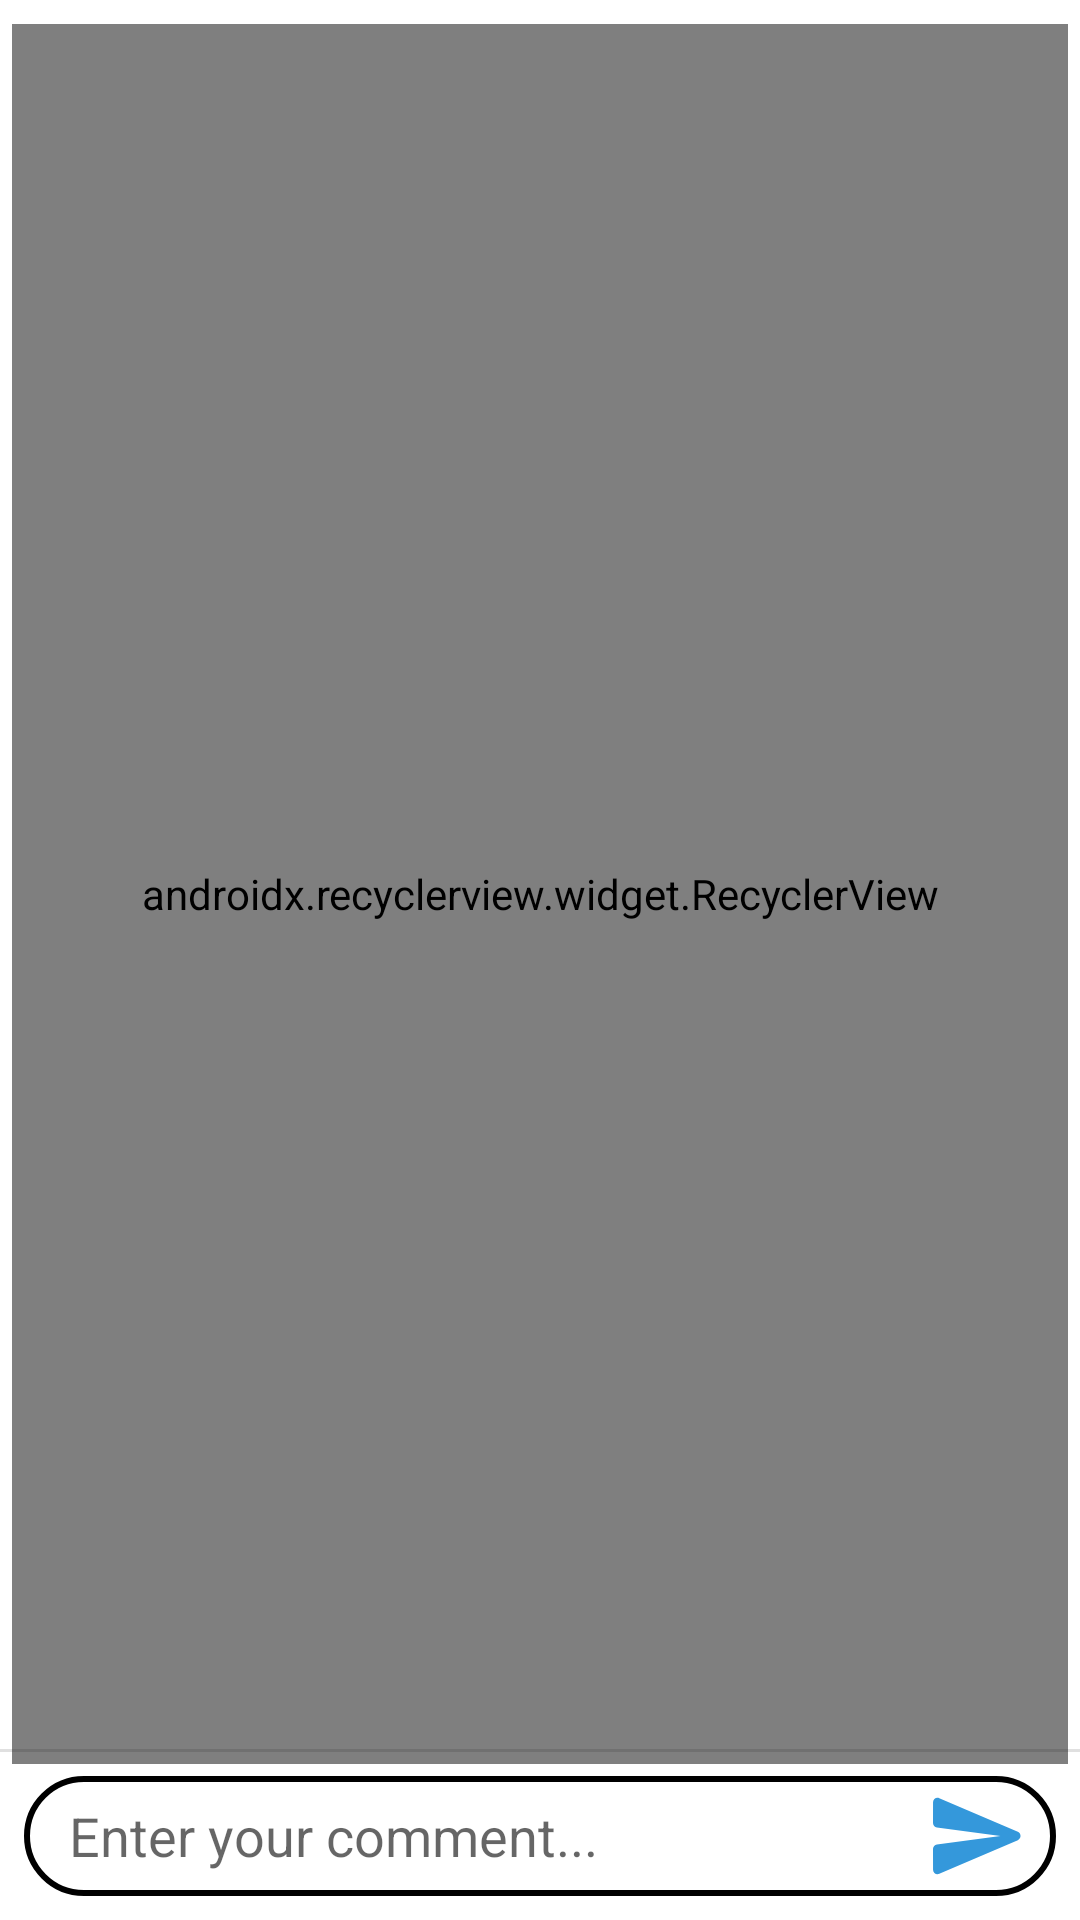

Icon click points for this 1080w x 1920h phone screenshot, format (x=x, y=y):
send: (x=978, y=1836)
